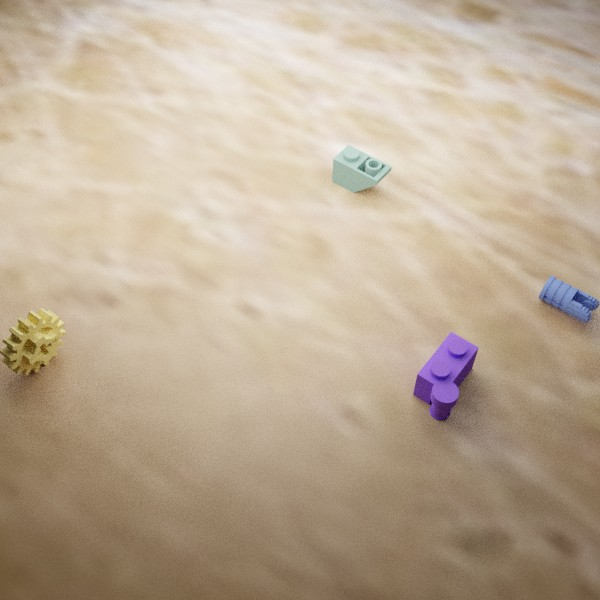lego: (412, 331, 478, 420), (0, 308, 65, 375), (538, 275, 599, 322), (332, 144, 391, 192)
